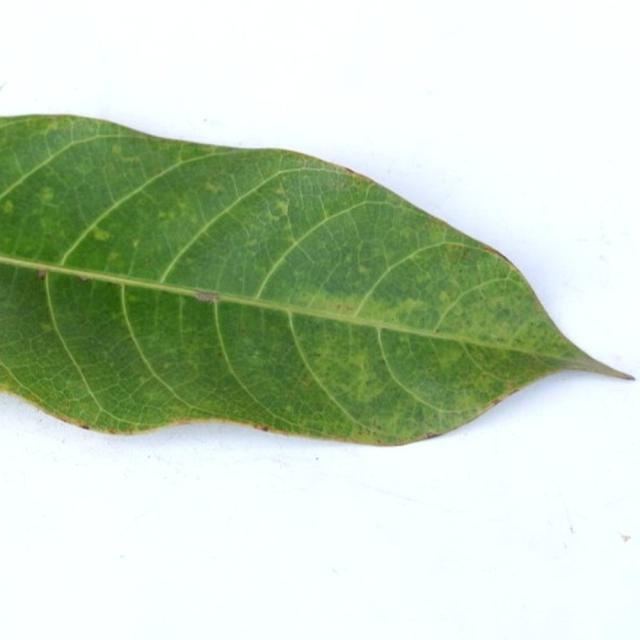Mango: (0, 116, 627, 444)
Powdery_Mildew: (84, 223, 122, 251), (198, 170, 231, 197), (33, 175, 60, 202), (396, 298, 428, 320), (446, 244, 478, 266), (347, 349, 371, 371), (39, 214, 61, 234), (265, 208, 282, 224), (494, 307, 512, 322), (92, 228, 108, 241), (1, 198, 14, 214), (120, 153, 140, 163), (275, 199, 289, 212), (438, 290, 451, 303), (106, 251, 120, 263), (157, 210, 172, 221), (416, 273, 431, 284), (45, 121, 60, 132), (299, 377, 312, 389), (357, 265, 369, 276), (274, 185, 287, 195), (39, 322, 53, 331), (177, 201, 188, 212), (112, 143, 122, 155), (37, 270, 47, 280), (237, 325, 247, 335), (246, 238, 257, 247), (496, 335, 508, 343), (126, 295, 136, 304), (185, 257, 194, 266), (287, 237, 297, 245), (139, 376, 149, 384), (343, 305, 354, 312), (132, 239, 140, 248), (344, 255, 352, 264), (285, 405, 294, 413)
